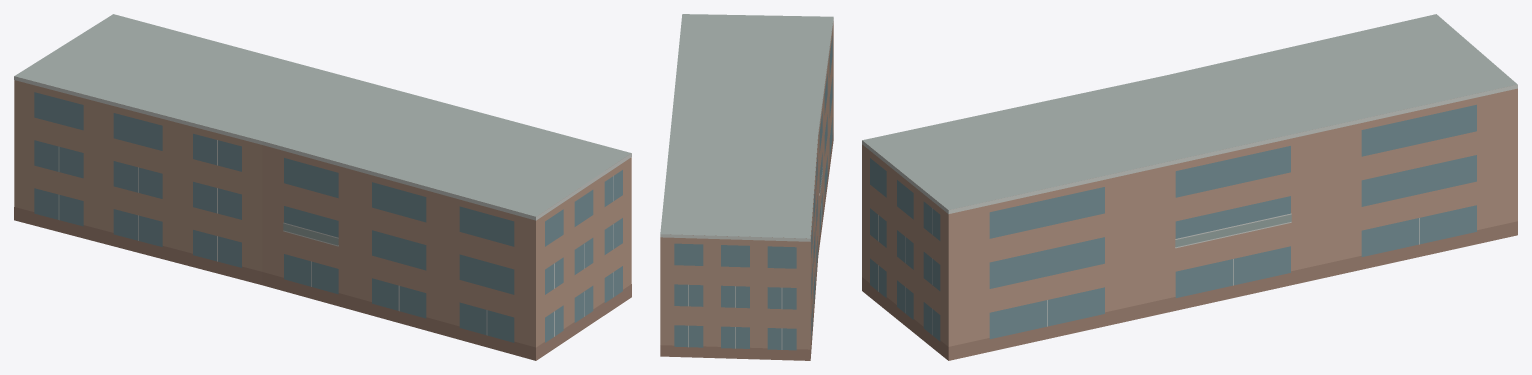
File: survey-upis-32809884.glb
3 views of the same model, side by side, from view 1: azimuth 30°, elevation 25°; view 2: azimuth 150°, elevation 25°; view 3: azimuth 270°, elevation 25° (orthographic). The views are drawn at different scales.
Visible parts, largest first — view 1: survey-upis-32809884.tmp; view 2: survey-upis-32809884.tmp; view 3: survey-upis-32809884.tmp.
Boxes of the visible parts, x1=… form: survey-upis-32809884.tmp: x1=14, y1=14, x2=631, y2=360; survey-upis-32809884.tmp: x1=660, y1=14, x2=833, y2=360; survey-upis-32809884.tmp: x1=862, y1=14, x2=1517, y2=360.
Size of the model in its own units: 25.55 by 9.15 by 36.09.
